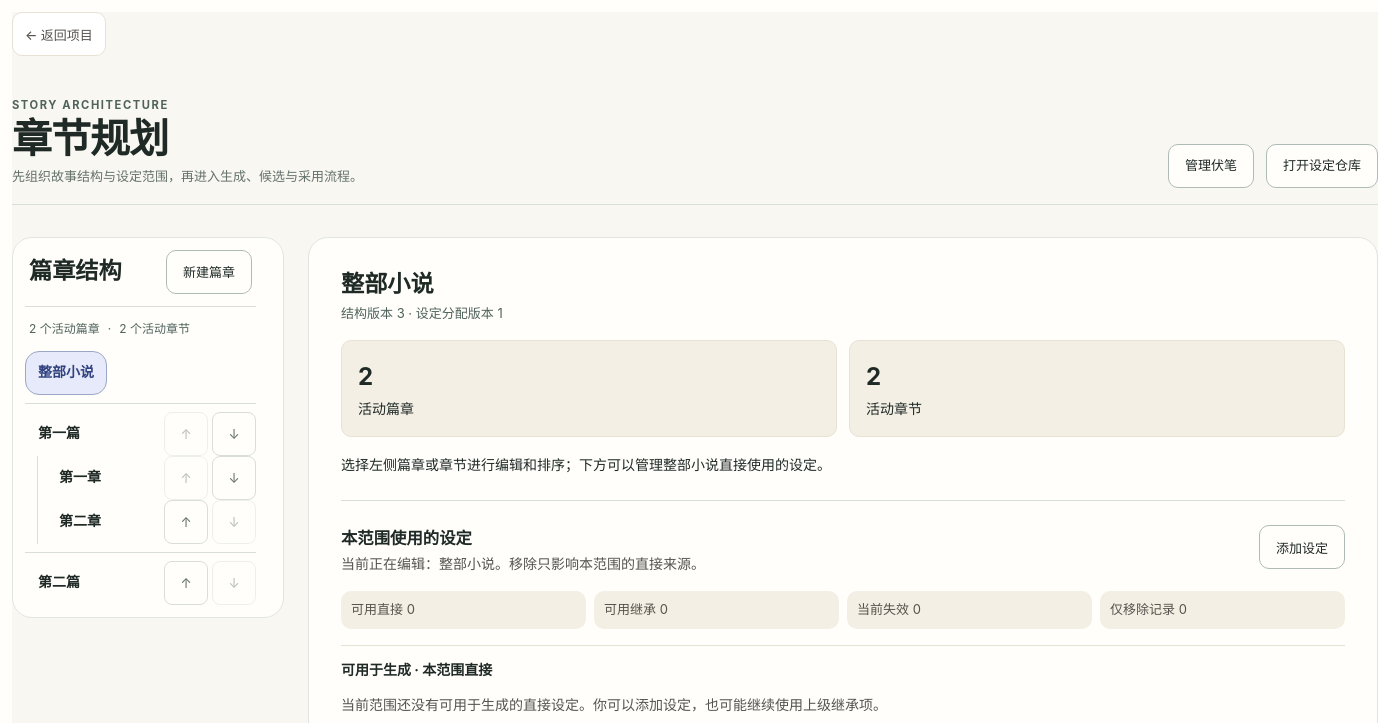
ChapterPlanningPage › keeps version-conflict choices visible until the user explicitly resolves them
Click the button "第一篇" at (92, 434), box [25, 412, 160, 456]
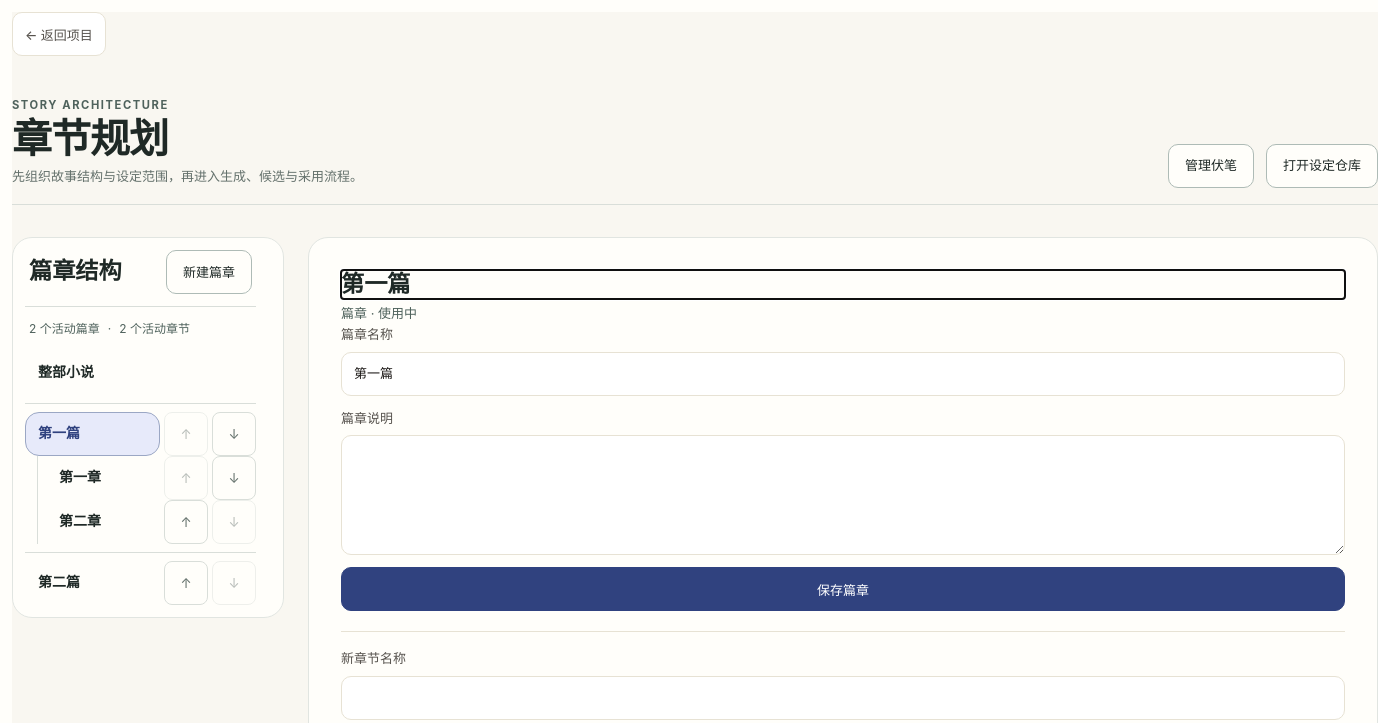
Replace the text in the field labelled "篇章名称" with "我的草稿标题" at (843, 374), box [341, 352, 1345, 396]
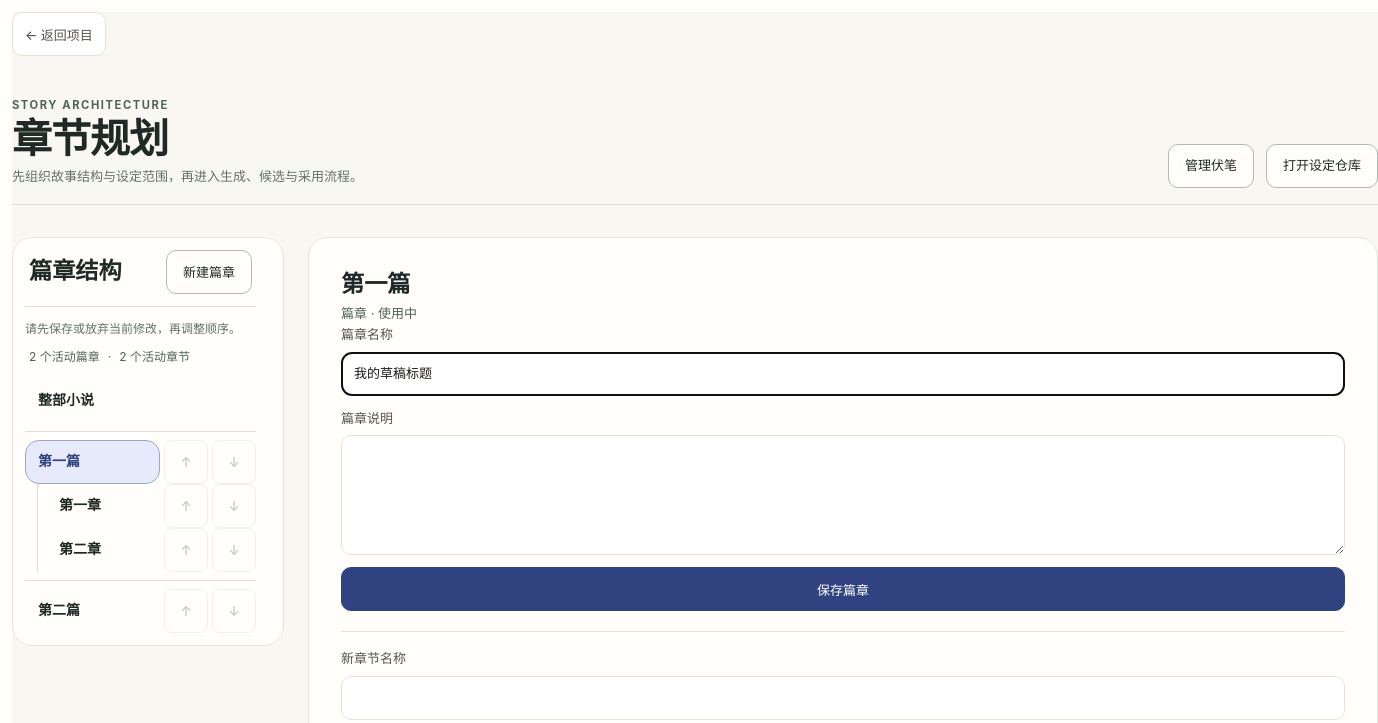
Click the button "保存篇章" at (843, 589), box [341, 567, 1345, 611]
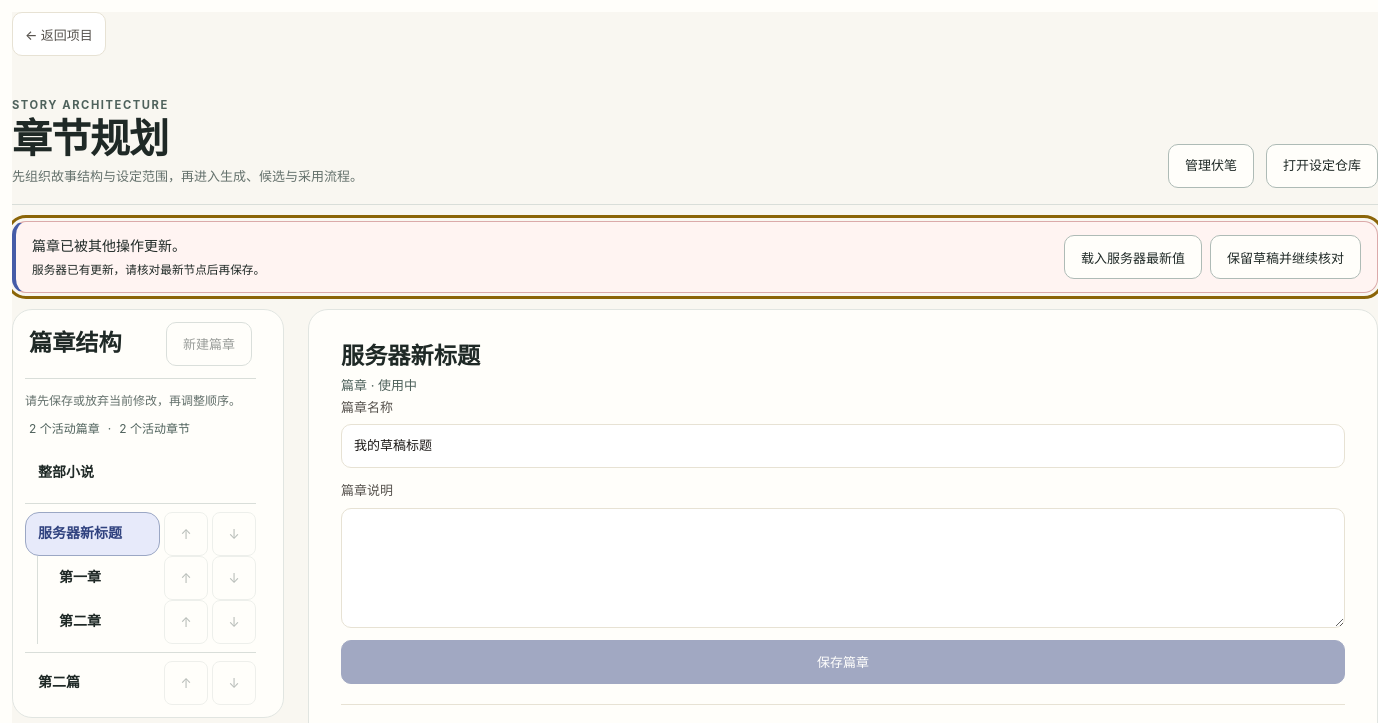
Expected: the button "载入服务器最新值" is shown, [1064, 235, 1202, 279]
Expected: the button "保留草稿并继续核对" is shown
Expected: the button "保存篇章" is disabled, [341, 640, 1345, 684]
Click the button "保留草稿并继续核对" at (1286, 257), box [1210, 235, 1361, 279]
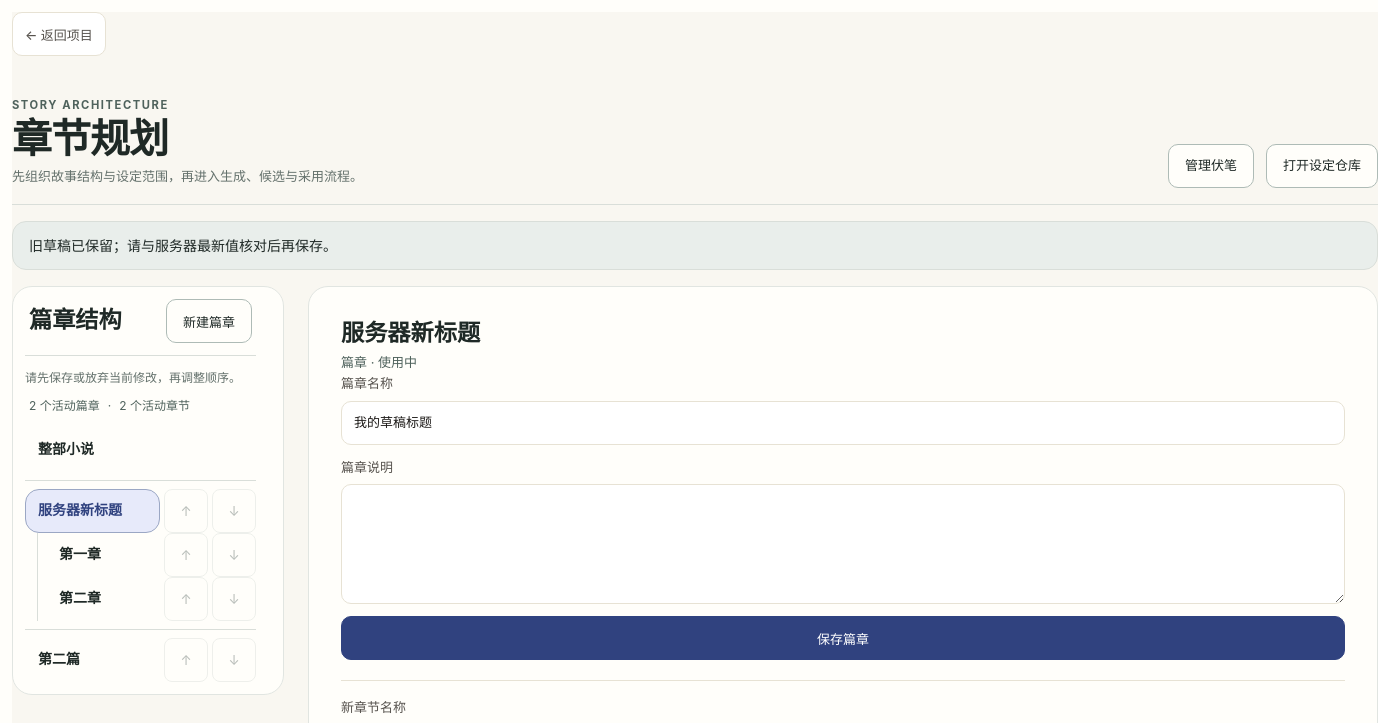
Expected: the button "保存篇章" is enabled, [341, 616, 1345, 660]
